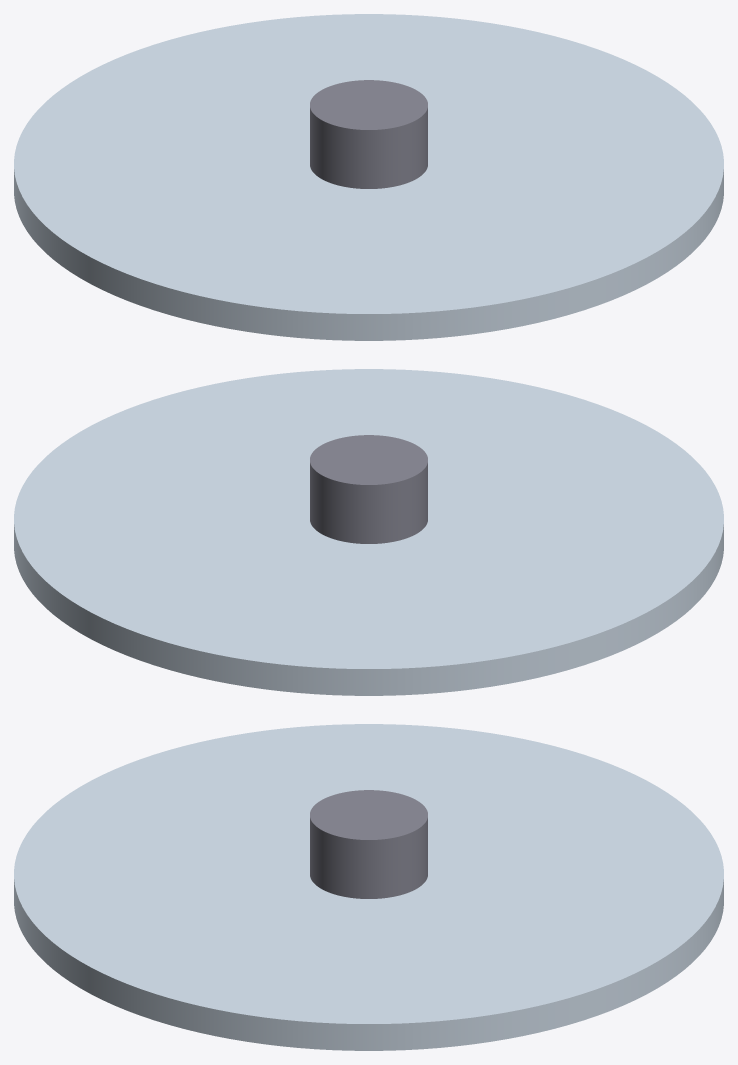
File: electrode.glb
The picture shows the model from 3 angles, top to bottom: view 1: azimuth 30°, elevation 25°; view 2: azimuth 150°, elevation 25°; view 3: azimuth 270°, elevation 25°; orthographic projection.
Parts seen in each view (by area): view 1: electrode_pad, electrode_stud; view 2: electrode_pad, electrode_stud; view 3: electrode_pad, electrode_stud.
Part boxes in pixels (x1,y1,x2,y2): electrode_pad: [14, 14, 723, 340]; electrode_stud: [310, 80, 427, 188]; electrode_pad: [14, 369, 723, 695]; electrode_stud: [310, 435, 427, 543]; electrode_pad: [14, 724, 723, 1050]; electrode_stud: [310, 790, 427, 898].
Size of the model in its own units: 0.024 by 0.0032 by 0.024.
